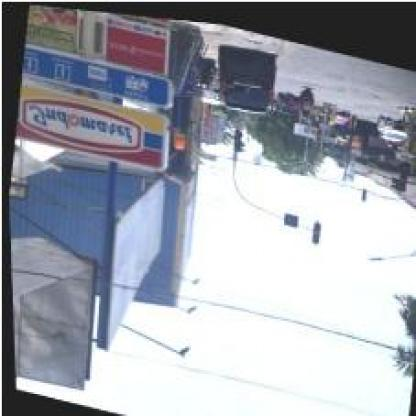yellow: (231, 121, 242, 147), (397, 160, 406, 182), (309, 216, 318, 236)
